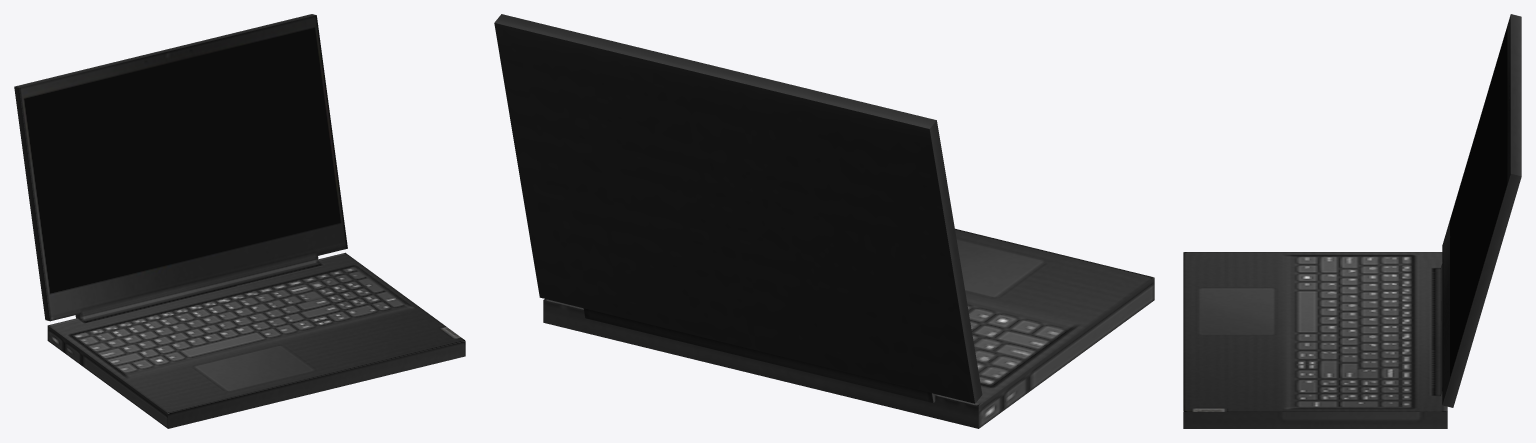
File: laptop.fbx
3 renders of one model, left to right at view 1: azimuth 30°, elevation 25°; view 2: azimuth 150°, elevation 25°; view 3: azimuth 270°, elevation 25°, orthographic. The views are drawn at different scales.
Visible parts, largest first — view 1: LaptopScreen, LaptopKeyboard; view 2: LaptopScreen, LaptopKeyboard; view 3: LaptopKeyboard, LaptopScreen.
Boxes of the visible parts, x1=… form: LaptopScreen: x1=14, y1=14, x2=347, y2=321; LaptopKeyboard: x1=47, y1=252, x2=465, y2=428; LaptopScreen: x1=494, y1=14, x2=982, y2=403; LaptopKeyboard: x1=543, y1=228, x2=1154, y2=428; LaptopKeyboard: x1=1183, y1=252, x2=1447, y2=428; LaptopScreen: x1=1440, y1=14, x2=1521, y2=407.
Size of the model in its own units: 76.94 by 57.33 by 68.92.
